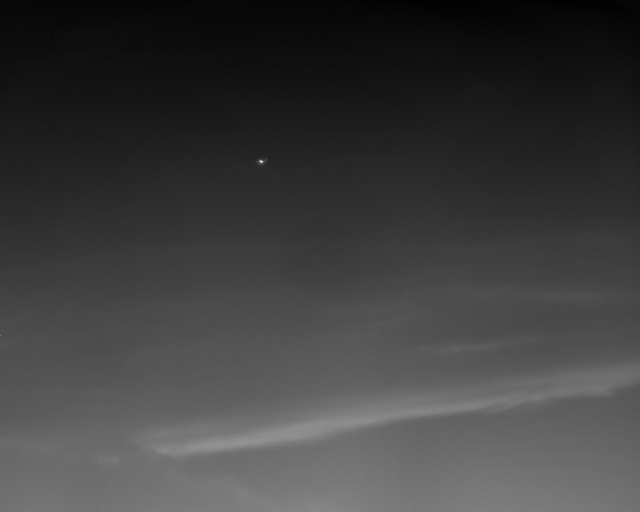Target: (258, 159, 267, 166)
